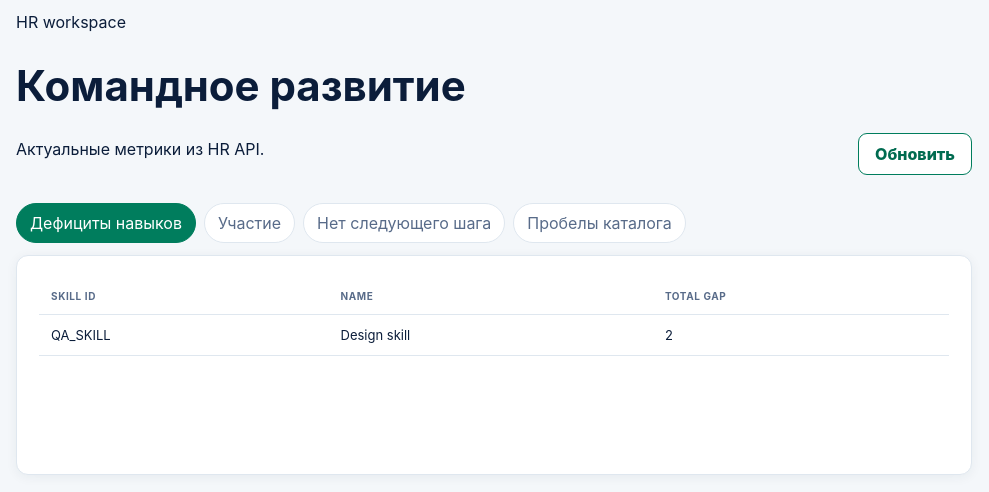
Test: HR participation API contract › shows the empty state when there are no participation records
Check: the cell "Design skill" is shown, box x1=328 y1=315 x2=653 y2=356
Click the tab "Участие" at (250, 223), box x1=204 y1=203 x2=295 y2=243
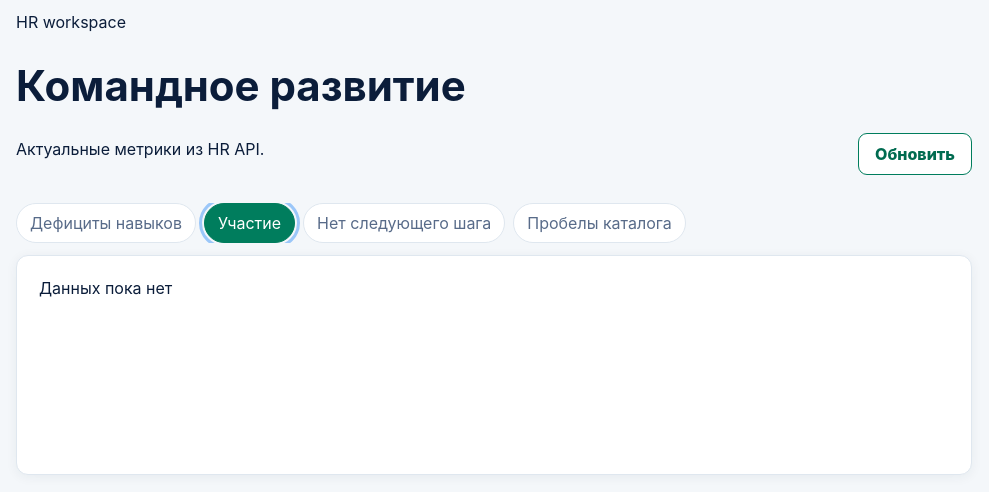
Check: the text "Данных пока нет" is shown, box x1=39 y1=278 x2=172 y2=298
Check: the table is gone
